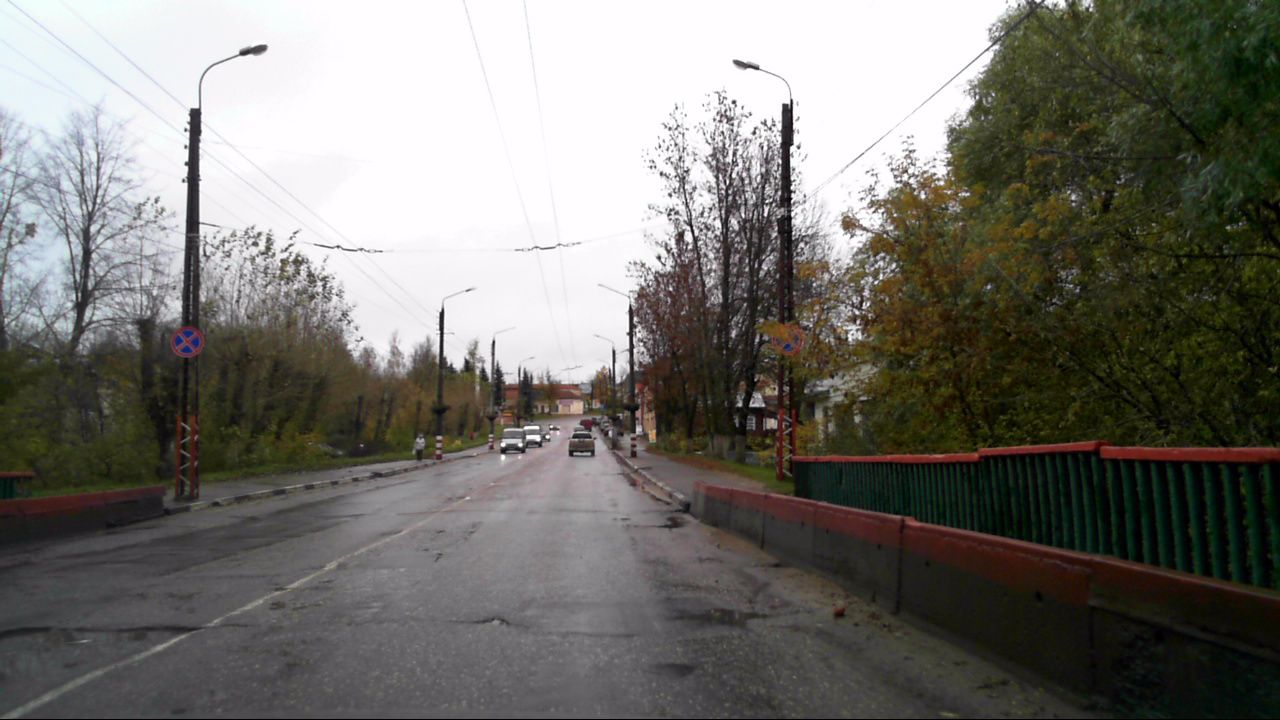No Parking: (170, 326, 204, 357)
